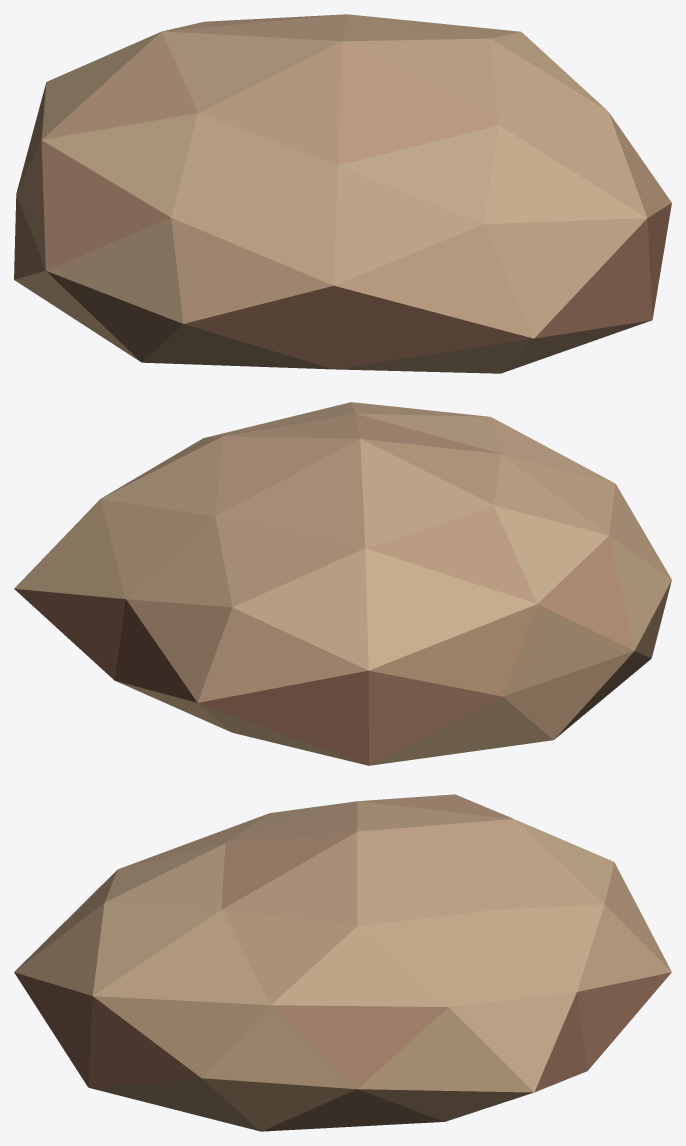
Rendered from pebble_3.glb.
3 renders of one model, top to bottom at view 1: azimuth 30°, elevation 25°; view 2: azimuth 150°, elevation 25°; view 3: azimuth 270°, elevation 25°, orthographic. The views are drawn at different scales.
Parts seen in each view (by area): view 1: rock; view 2: rock; view 3: rock.
Part boxes in pixels (x1,y1,x2,y2): rock: (14, 14, 671, 373); rock: (14, 402, 671, 765); rock: (14, 794, 671, 1131).
Size of the model in its own units: 0.35 by 0.1267 by 0.3893.
